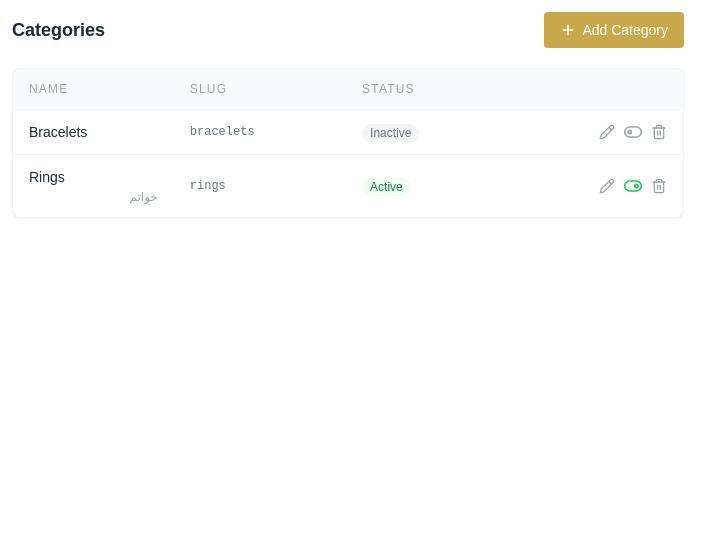
Test: categories — a failed save is no longer silent (NEX-64) › does not carry an old failure into the next time the form opens
Click the button named "Edit: Rings". click: (607, 186)
box: 599,178 -> 615,194
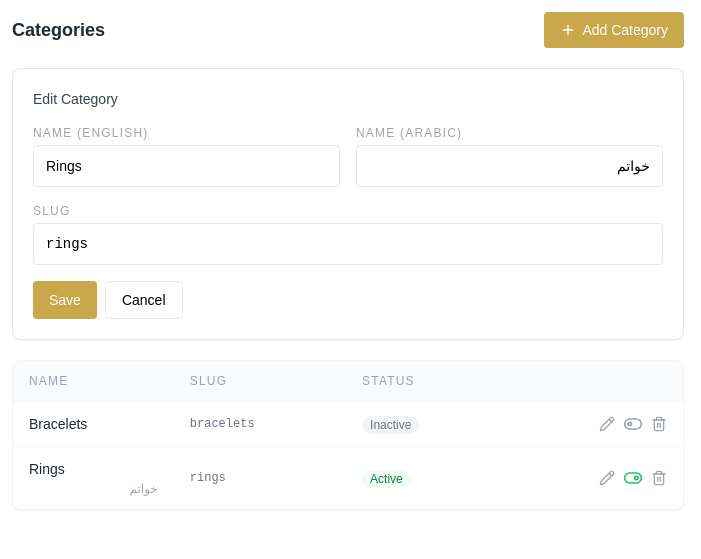
Click the button "Save". click: (65, 300)
box: 33,281 -> 97,319
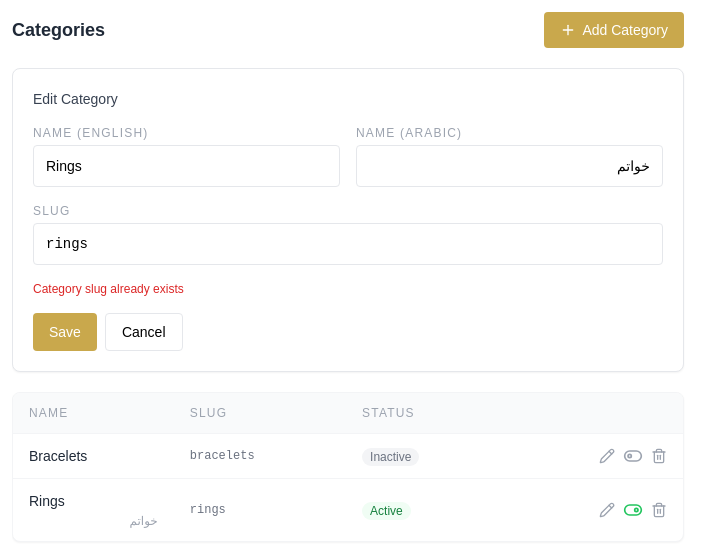
expect the message reads "Category slug already exists": met, box 33,282 -> 184,296
Click the button named "Edit: Bracelets". click: (607, 456)
box: 599,448 -> 615,464
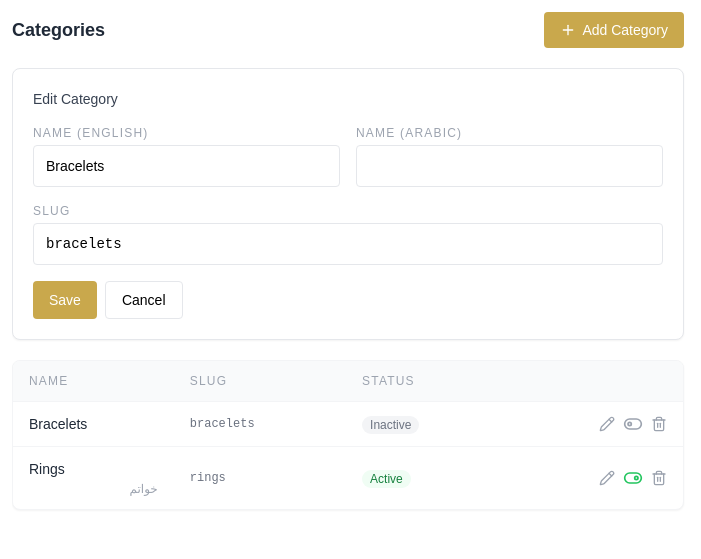
expect the message "Category slug already exists" is gone: met
